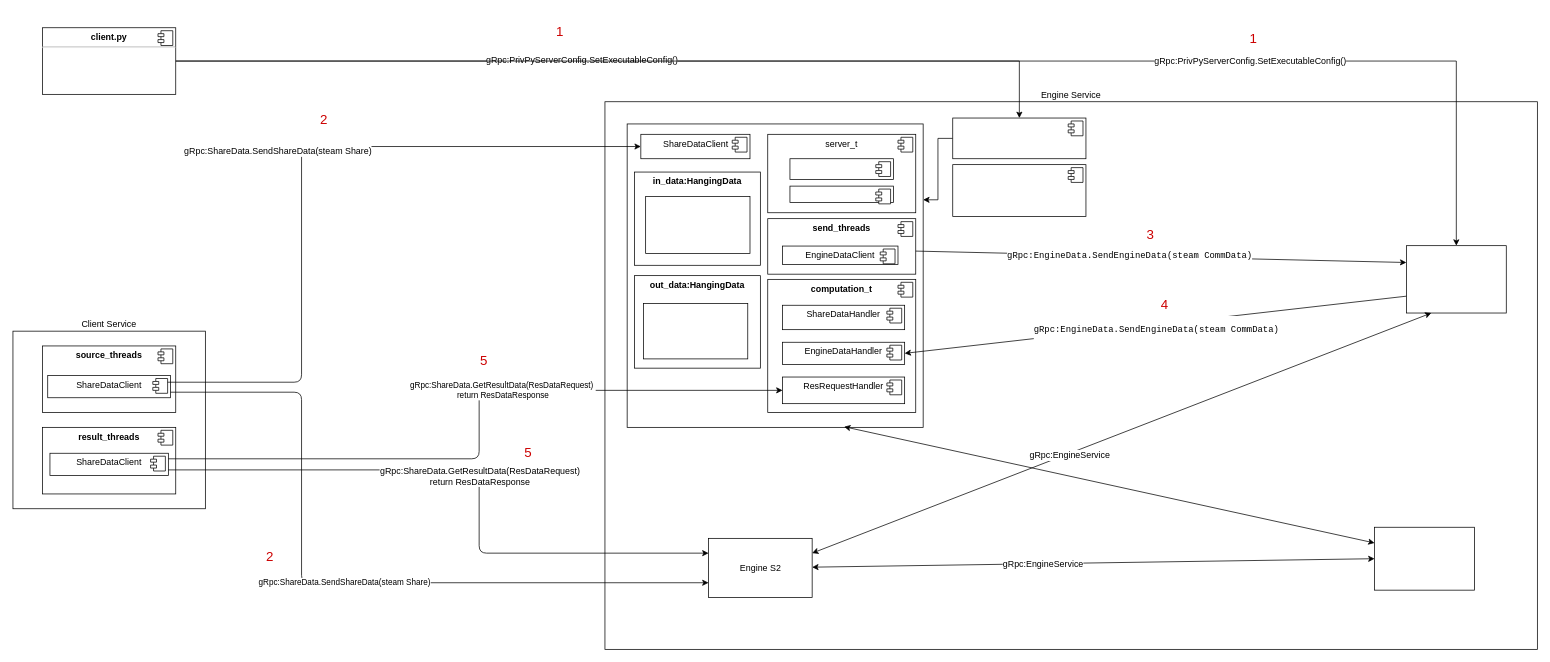
Some shapes in this 1550 by 662 pixel diagram are drawn without their labels. Here are the shapes that lost their labels. From the top down, the box of each, then its label:
(952, 117, 1086, 159): PrivpyServerConfig + setExecutableConfig()
(789, 158, 894, 179): StatusHandler
(789, 185, 894, 202): ConfigHandler
(952, 164, 1086, 216): PrivpyServerStatus + getTaskStatus() + killTask()
(645, 196, 750, 253): s1,s2,sa,sb source_name source_shape_name <quene>
(626, 123, 923, 427): Engine S1
(1406, 245, 1506, 313): Engine SA
(643, 303, 748, 359): s1,s2,sa,sb dest_name dest_shape_name <quene>
(1374, 527, 1474, 590): Engine SB
